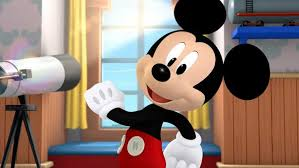mickey: (85, 1, 271, 168)
